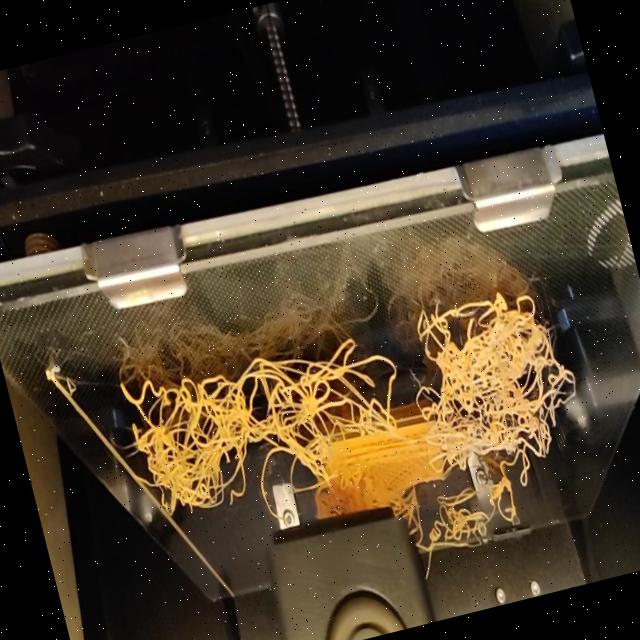spaghetti: (122, 272, 594, 565), (402, 480, 532, 576)
